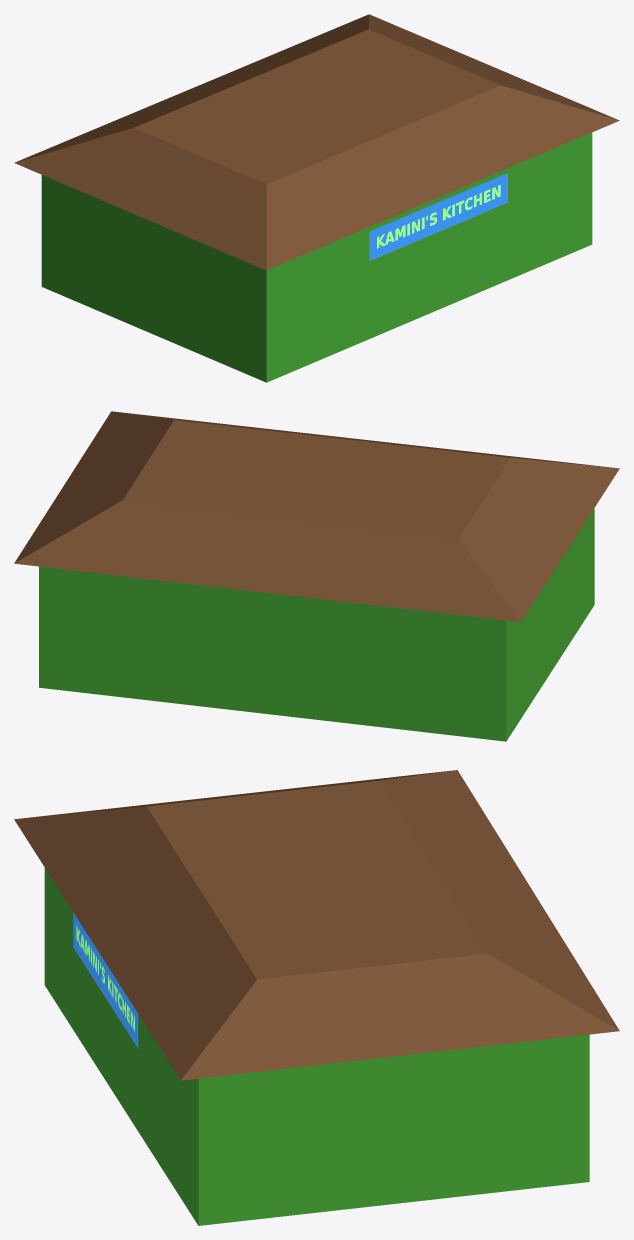
File: kaminis.glb
3 renders of one model, top to bottom at view 1: azimuth 30°, elevation 25°; view 2: azimuth 150°, elevation 25°; view 3: azimuth 270°, elevation 25°, orthographic. The views are drawn at different scales.
Visible parts, largest first — view 1: kaminis_lod0; view 2: kaminis_lod0; view 3: kaminis_lod0.
Boxes of the visible parts, x1=… form: kaminis_lod0: x1=14, y1=14, x2=619, y2=382; kaminis_lod0: x1=14, y1=411, x2=619, y2=741; kaminis_lod0: x1=14, y1=770, x2=619, y2=1225.
Size of what is drawn, in the model's own units: 17.67 by 5.4 by 14.57.
4 materials, 2 textured.
